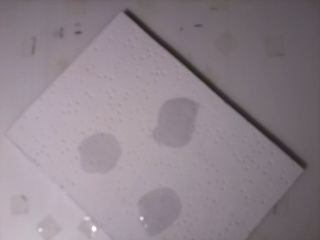Water_detected: (153, 101, 193, 141), (78, 146, 113, 169), (152, 196, 174, 223)
